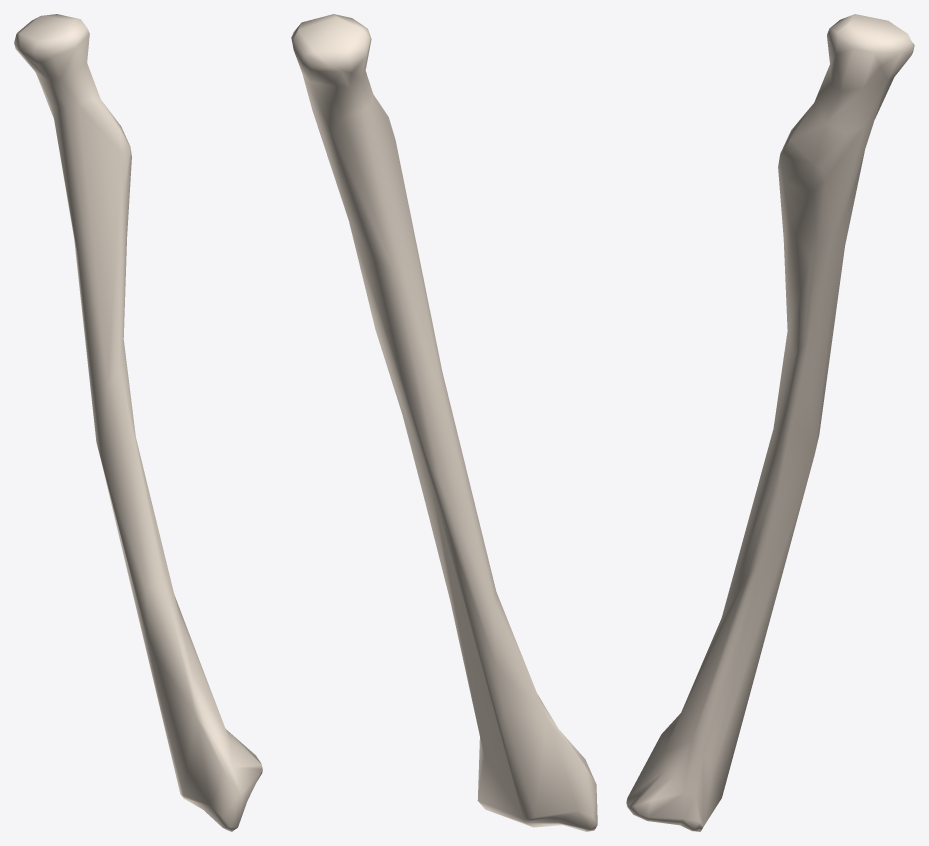
The model's file is right_radius.glb.
3 renders of one model, left to right at view 1: azimuth 90°, elevation 25°; view 2: azimuth 150°, elevation 25°; view 3: azimuth 270°, elevation 25°, orthographic. The views are drawn at different scales.
Parts seen in each view (by area): view 1: Radius.r; view 2: Radius.r; view 3: Radius.r.
Part boxes in pixels (x1,y1,x2,y2): Radius.r: (14,14,262,831); Radius.r: (291,14,597,831); Radius.r: (626,14,914,831).
Bounding box in the file's own units: 0.0353 × 0.1411 × 0.0429.
